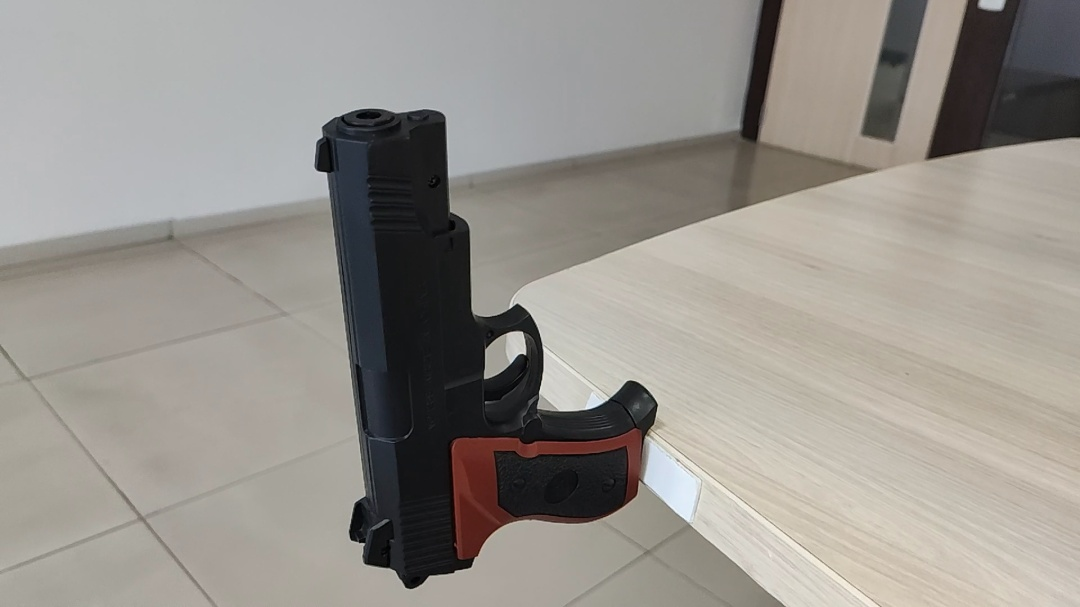gun: (311, 106, 661, 593)
